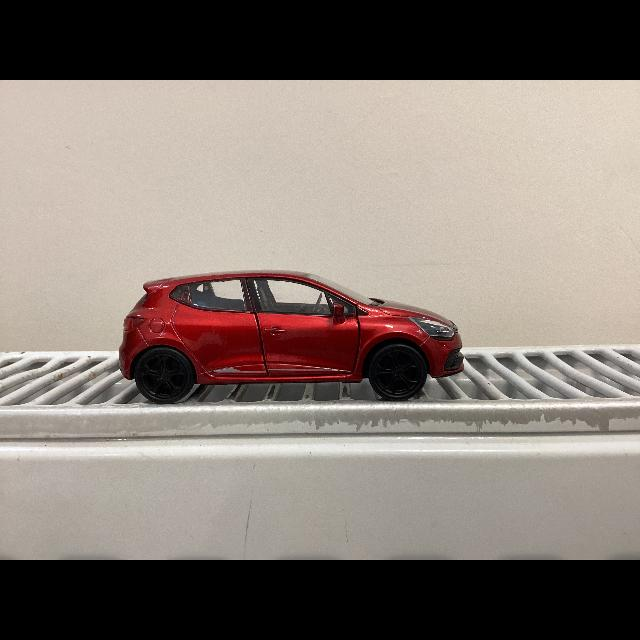Dogru_Jant: (375, 350, 421, 394), (140, 354, 183, 396)
